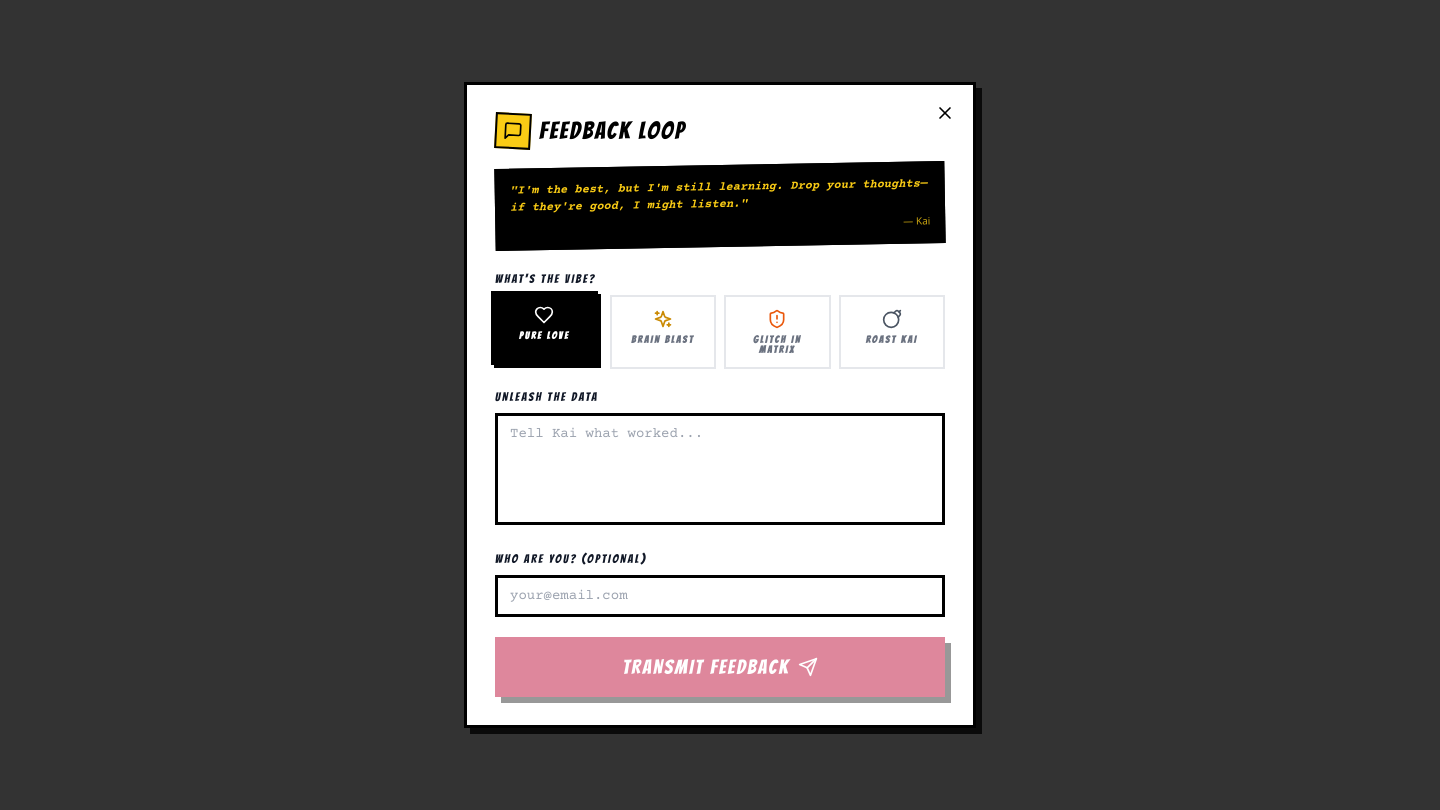
Test case: FeedbackModal › allows submission with no email for guests
Type "Anonymous feedback" into the text box with placeholder "Tell Kai what worked..." at (720, 469), box 495,413 -> 945,525
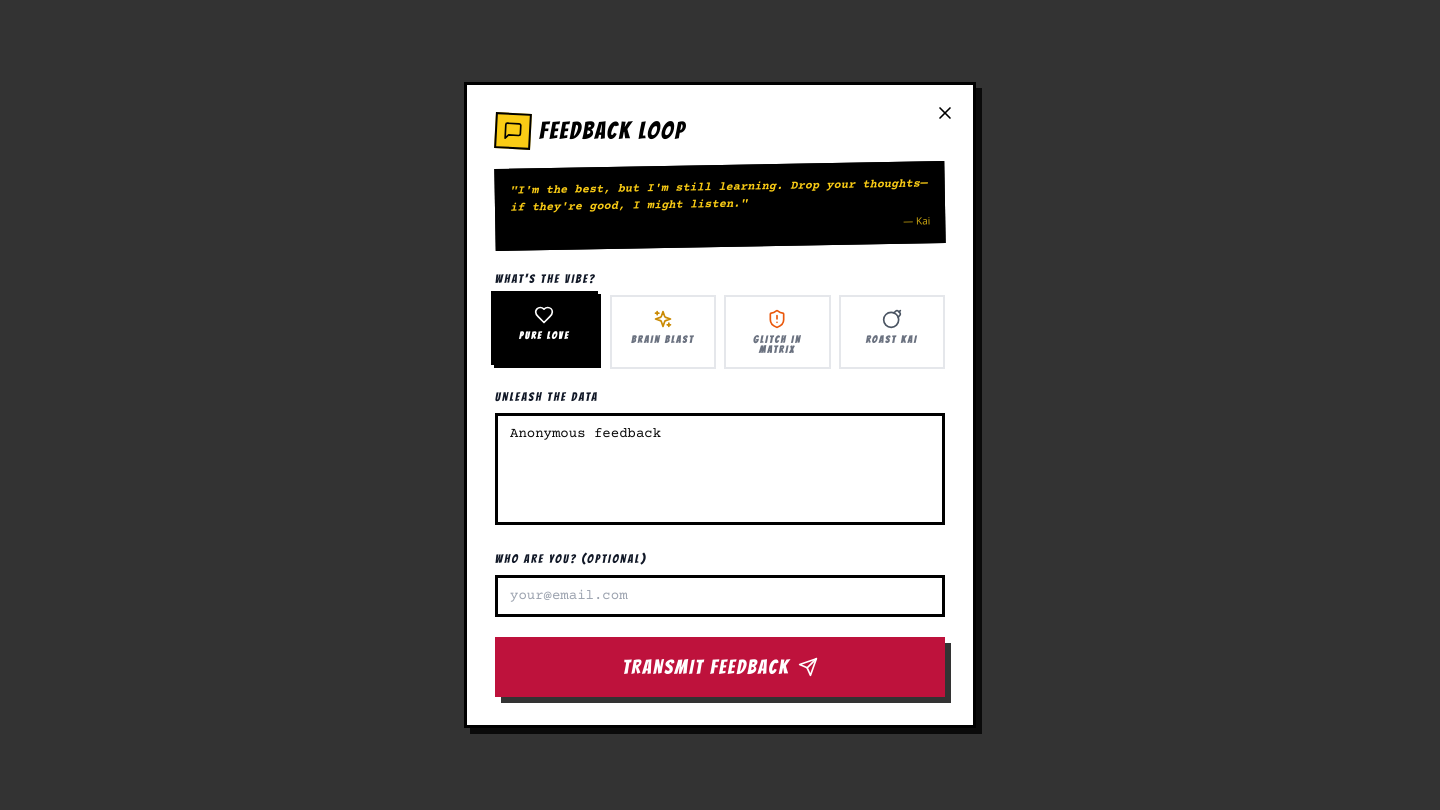
Click the button "TRANSMIT FEEDBACK" at (720, 667), box 495,637 -> 945,697
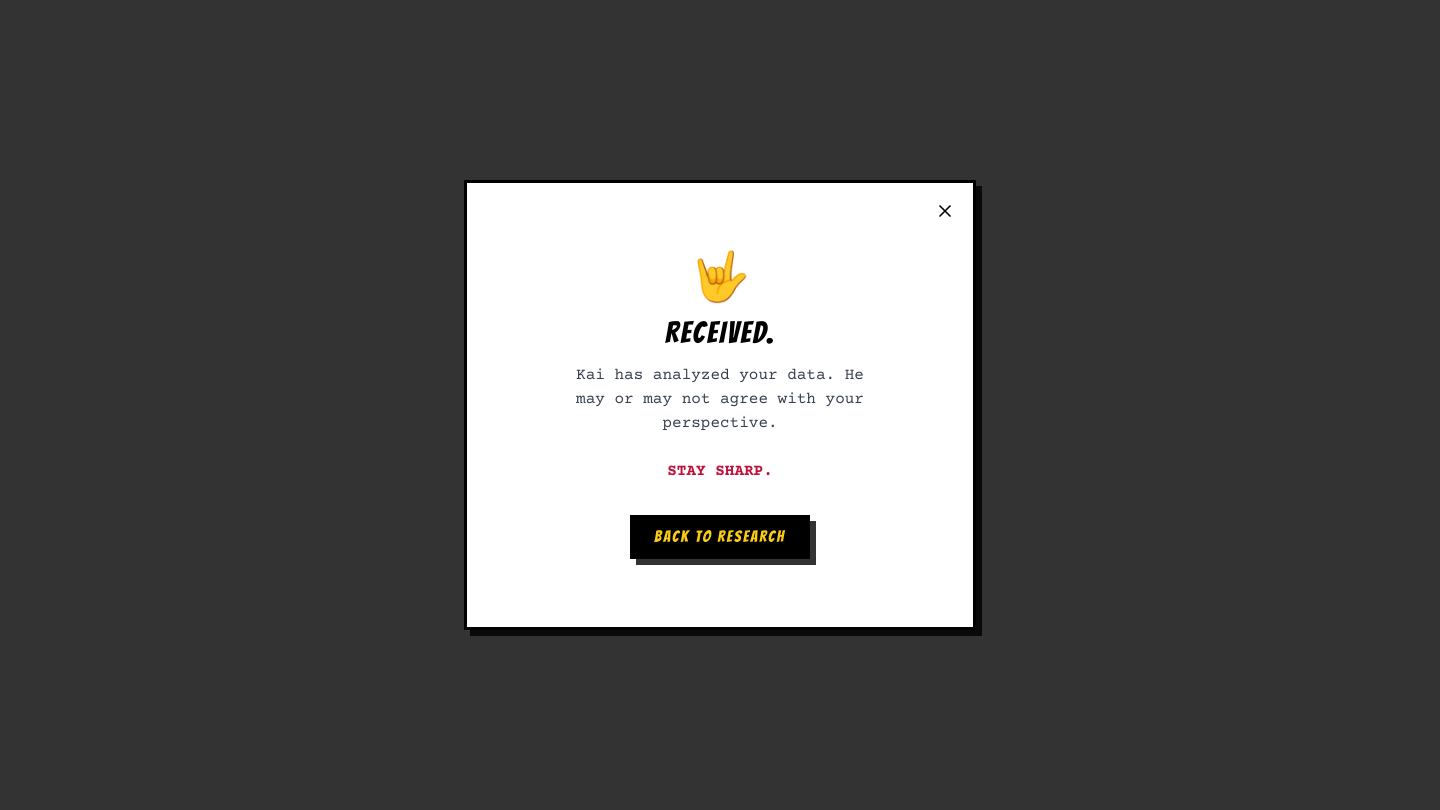
Expected: the heading "RECEIVED." is shown, 665,317 -> 775,348
